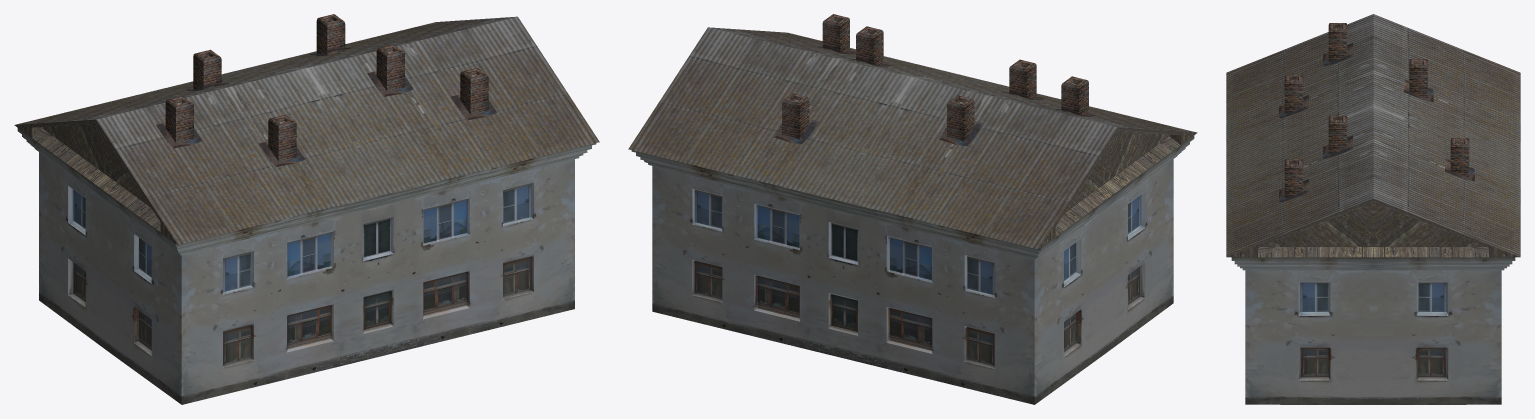
Rendered from House_03.fbx.
3 renders of one model, left to right at view 1: azimuth 30°, elevation 25°; view 2: azimuth 150°, elevation 25°; view 3: azimuth 270°, elevation 25°, orthographic. The views are drawn at different scales.
Visible parts, largest first — view 1: Дом2.001; view 2: Дом2.001; view 3: Дом2.001.
Part boxes in pixels (left/top/right/bottom): Дом2.001: left=14, top=14, right=599, bottom=404; Дом2.001: left=628, top=14, right=1197, bottom=404; Дом2.001: left=1226, top=14, right=1520, bottom=404.
Bounding box in the file's own units: 34.5 × 19.84 × 23.23.
